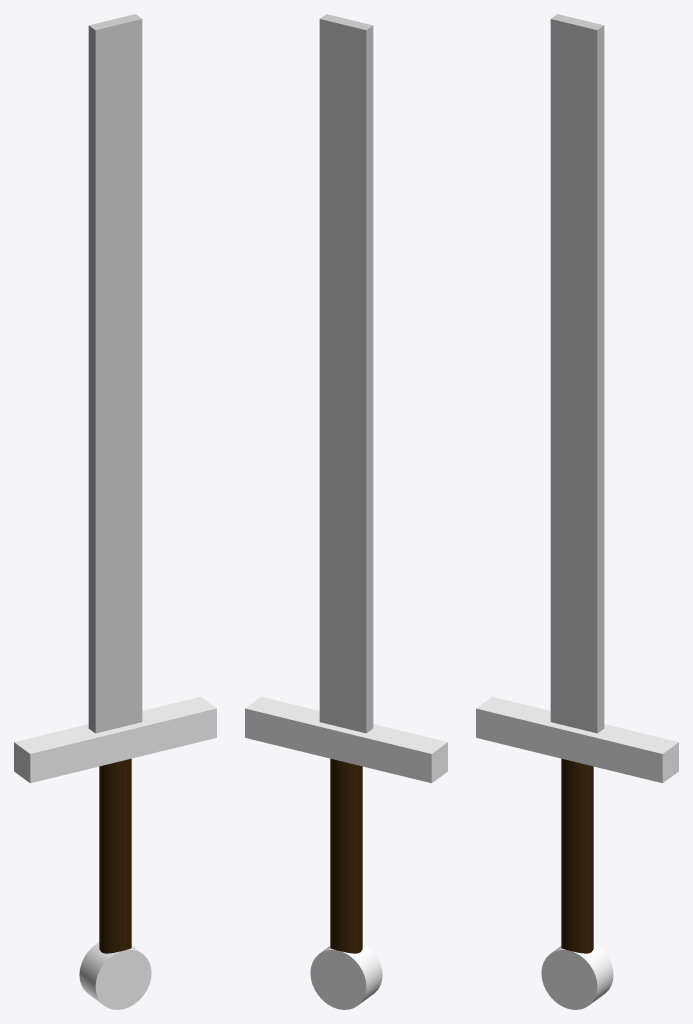
The model's file is swordModel.gltf.
The picture shows the model from 3 angles, left to right: view 1: azimuth 30°, elevation 25°; view 2: azimuth 150°, elevation 25°; view 3: azimuth 330°, elevation 25°; orthographic projection.
Visible parts, largest first — view 1: Blade, Crossguard, Grip, Pommel; view 2: Blade, Crossguard, Grip, Pommel; view 3: Blade, Crossguard, Grip, Pommel.
Boxes of the visible parts, <box> form: Blade: <box>88,14,142,733</box>; Crossguard: <box>14,696,216,783</box>; Grip: <box>99,758,131,953</box>; Pommel: <box>79,942,151,1009</box>; Blade: <box>319,14,373,733</box>; Crossguard: <box>245,696,447,783</box>; Grip: <box>330,758,362,953</box>; Pommel: <box>310,942,382,1009</box>; Blade: <box>550,14,604,733</box>; Crossguard: <box>476,696,678,783</box>; Grip: <box>561,758,593,953</box>; Pommel: <box>541,942,613,1009</box>.
Bounding box in the file's own units: 0.2 × 1 × 0.03.
